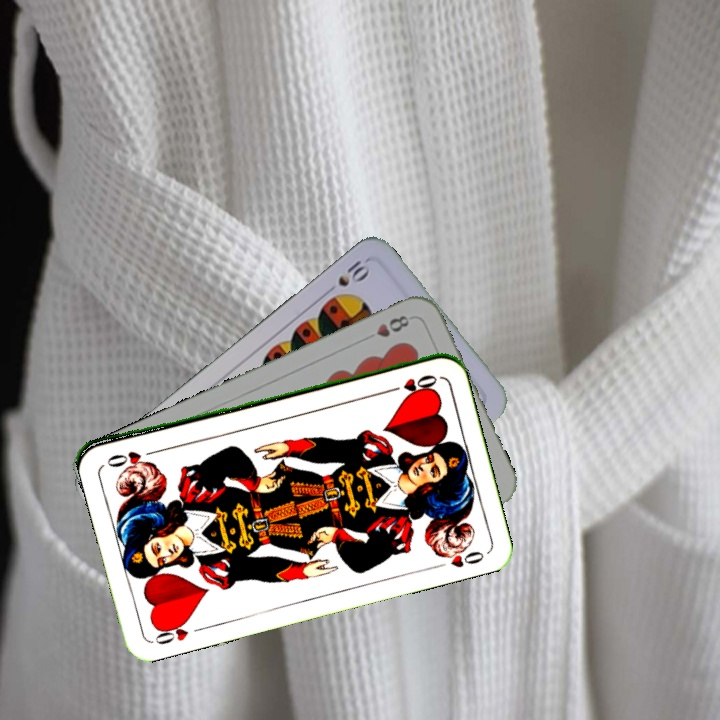H8: (360, 311, 412, 344)
HO: (149, 615, 207, 647), (383, 370, 440, 396)
S10: (320, 253, 373, 298)
